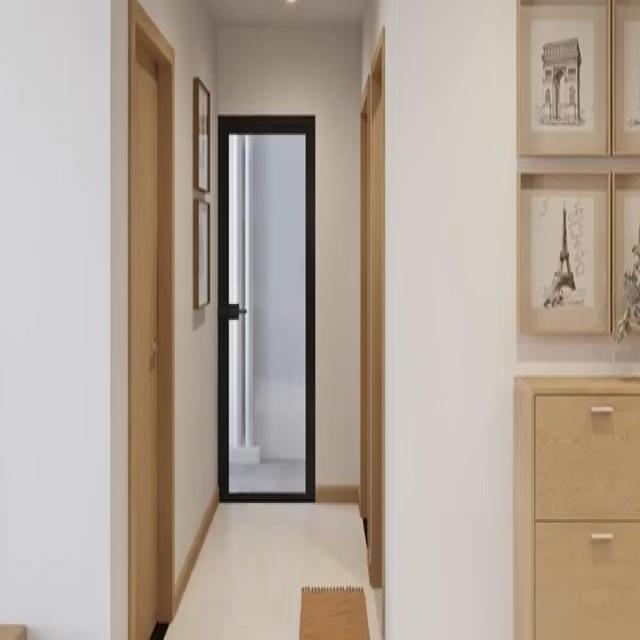door: (217, 114, 315, 502), (130, 3, 173, 640)
obstacle: (512, 375, 639, 638)
